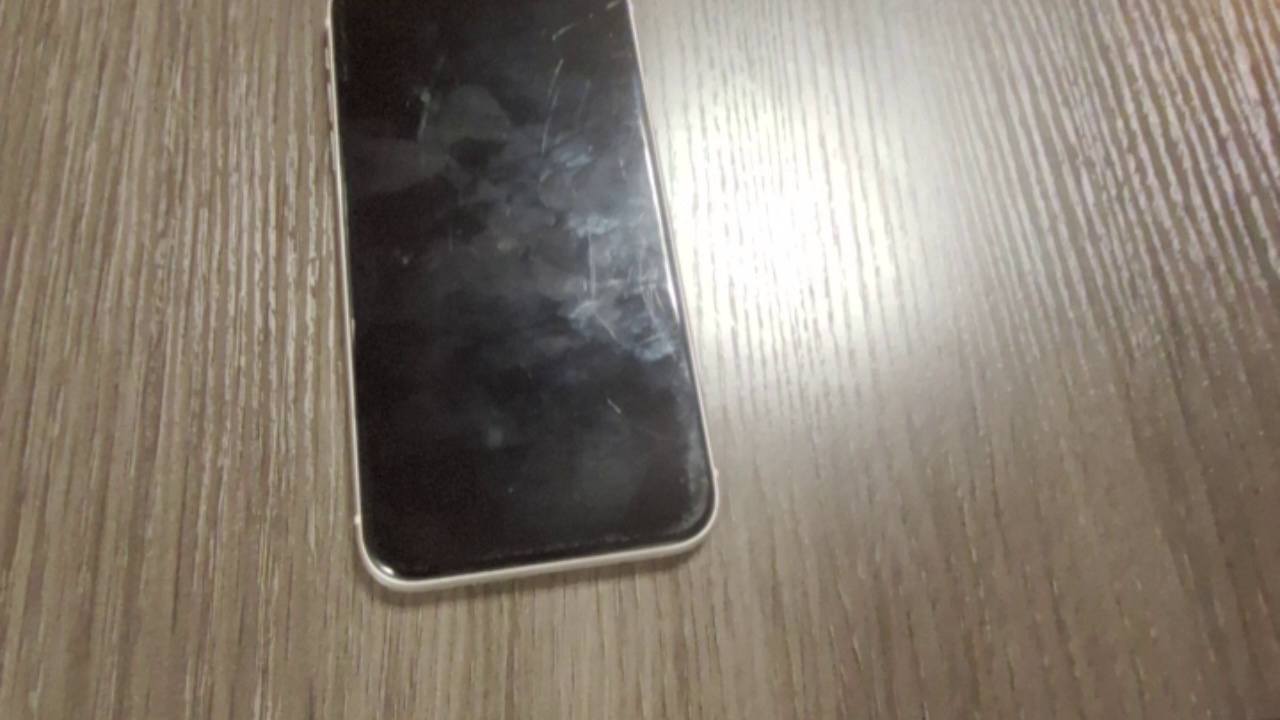celular: (331, 4, 719, 598)
